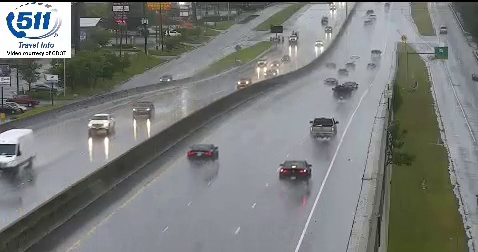car: (279, 161, 310, 181), (187, 143, 218, 162), (311, 118, 337, 138)
